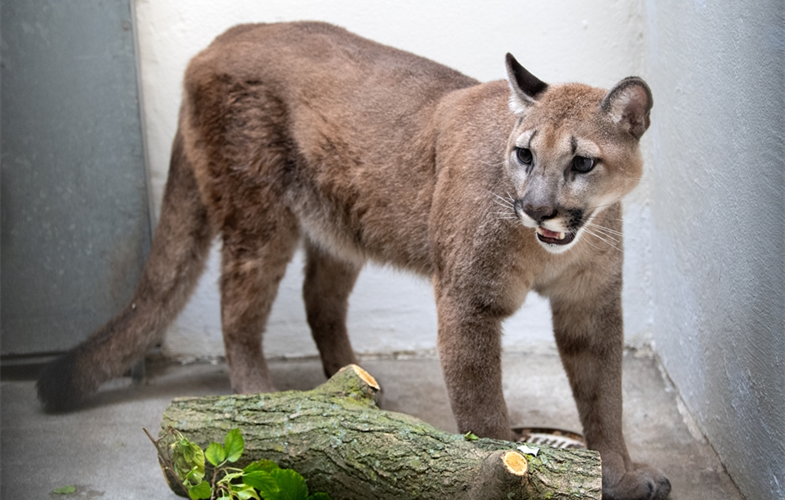OncaParda: (28, 16, 712, 497)
